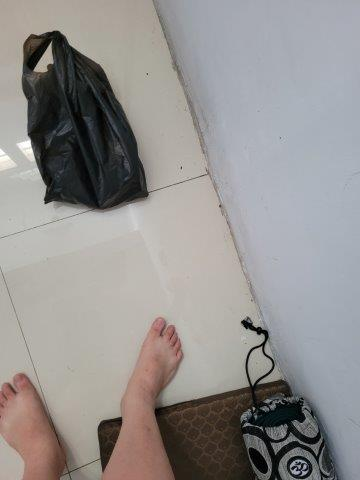plastik: (21, 31, 150, 208)
